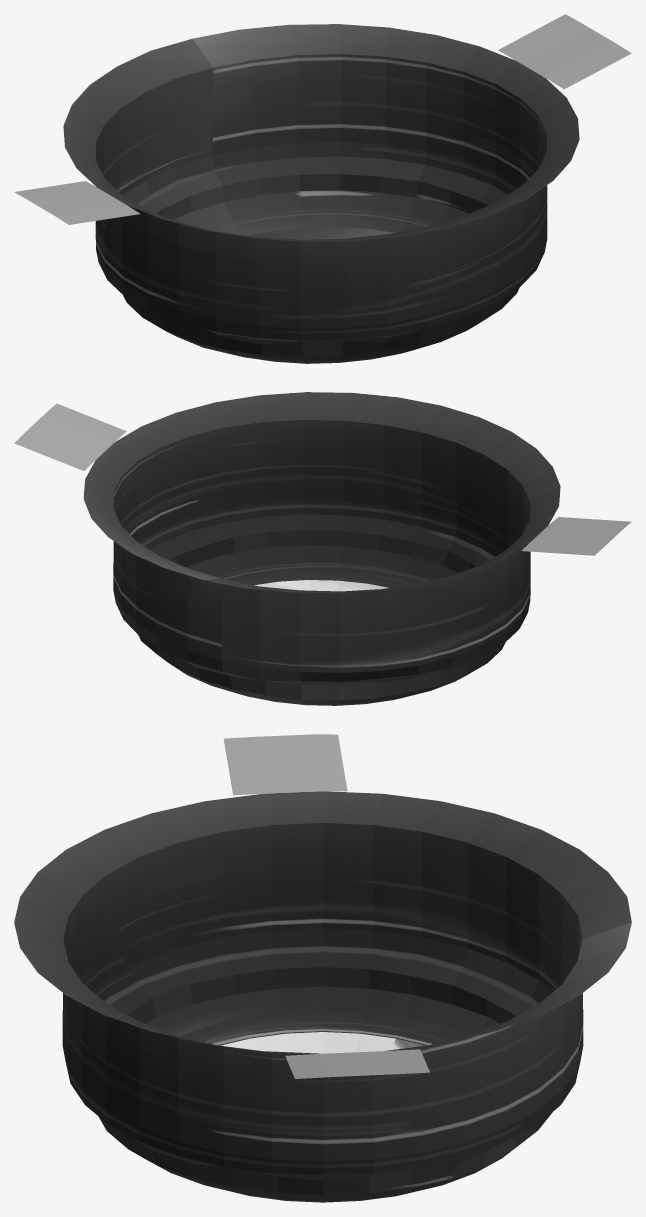
The model's file is nabe1.glb.
3 renders of one model, top to bottom at view 1: azimuth 30°, elevation 25°; view 2: azimuth 150°, elevation 25°; view 3: azimuth 270°, elevation 25°, orthographic. The views are drawn at different scales.
Visible parts, largest first — view 1: 円柱; view 2: 円柱; view 3: 円柱.
Boxes of the visible parts, x1,y1,x2,y2 form: 円柱: (14, 14, 631, 363); 円柱: (14, 392, 631, 705); 円柱: (14, 734, 631, 1202).
Size of the model in its own units: 4.25 by 1.38 by 3.16.
Materials: 1 (1 with a texture image).
